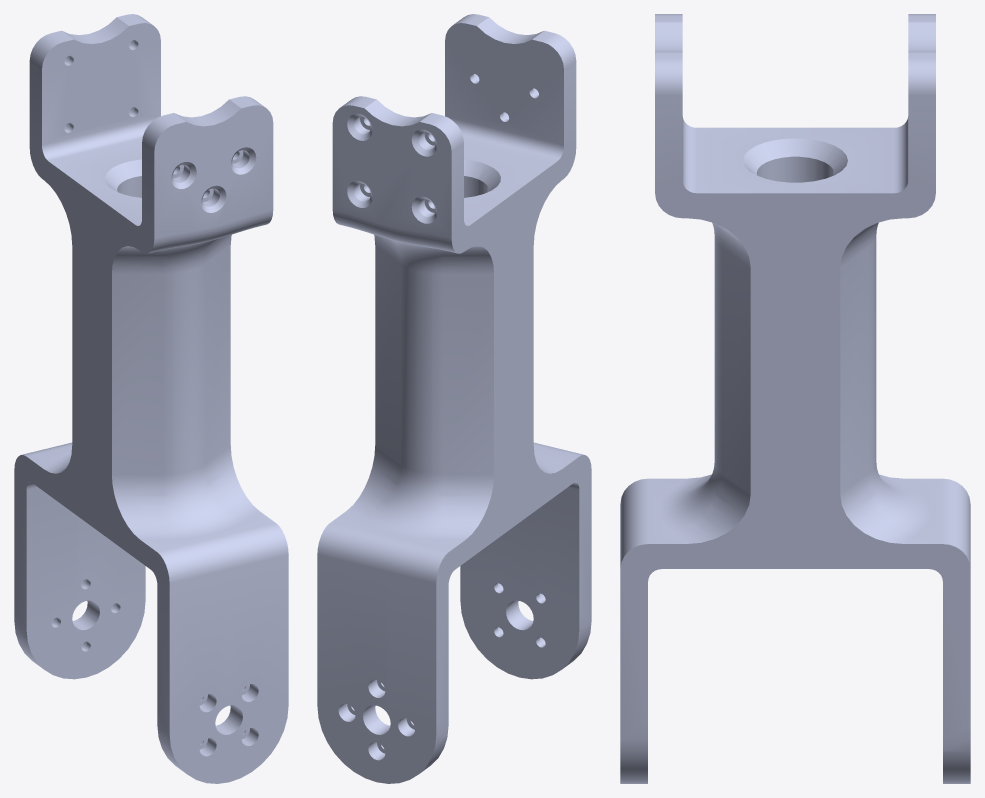
The picture shows the model from 3 angles, left to right: view 1: azimuth 30°, elevation 25°; view 2: azimuth 150°, elevation 25°; view 3: azimuth 270°, elevation 25°; orthographic projection. The views are drawn at different scales.
Parts seen in each view (by area): view 1: node0; view 2: node0; view 3: node0.
Boxes of the visible parts, <box> form: node0: <box>14,14,288,783</box>; node0: <box>317,14,591,783</box>; node0: <box>620,14,970,783</box>.
Bounding box in the file's own units: 0.028 × 0.1475 × 0.0633.
